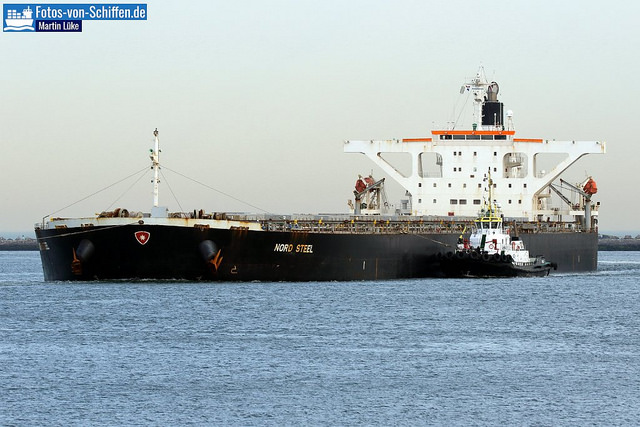bulk carrier: (37, 61, 600, 280)
tug_boat: (449, 189, 555, 278)
